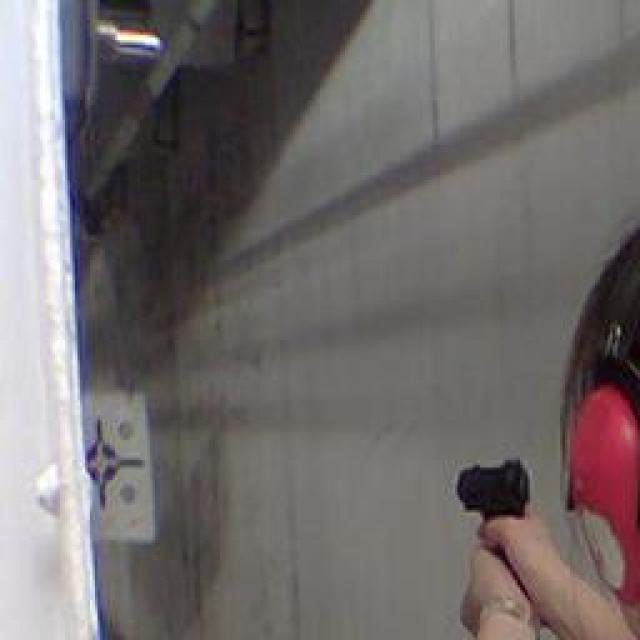Guns: (438, 446, 553, 559)
